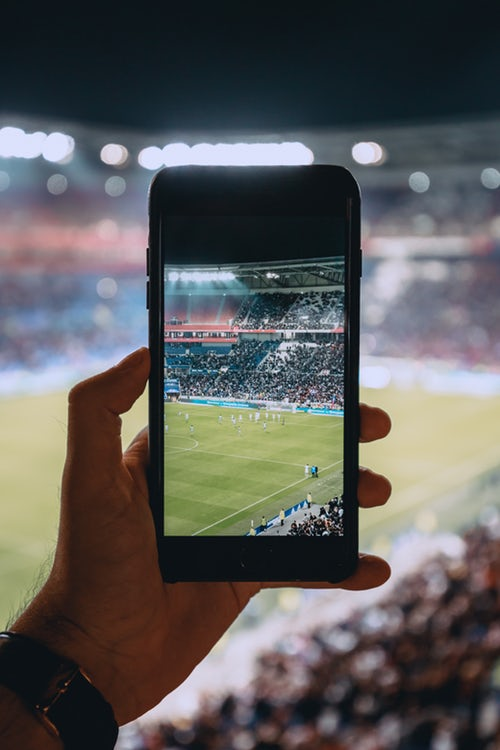phone: (146, 163, 371, 590)
